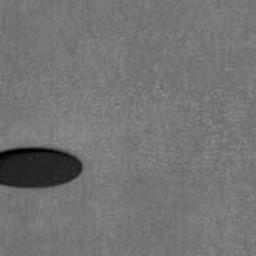Punching: (0, 146, 84, 188)
